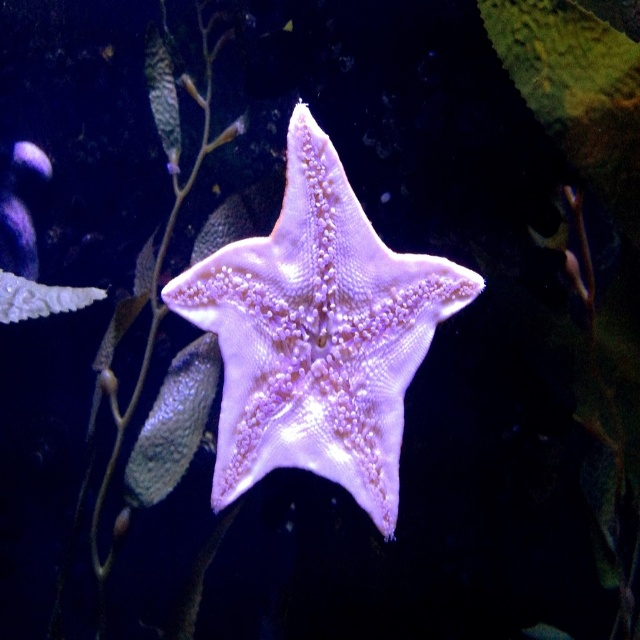Starfish: (161, 98, 486, 543)
